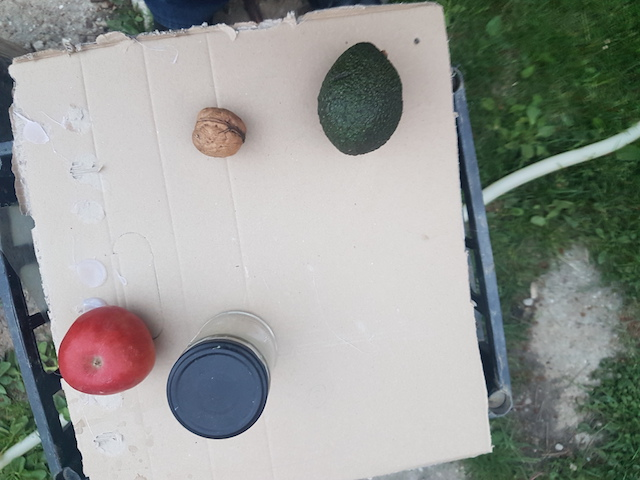apple: (54, 308, 159, 402)
avocado: (324, 38, 409, 163)
nut: (191, 103, 251, 161)
recipient: (161, 340, 267, 441)
